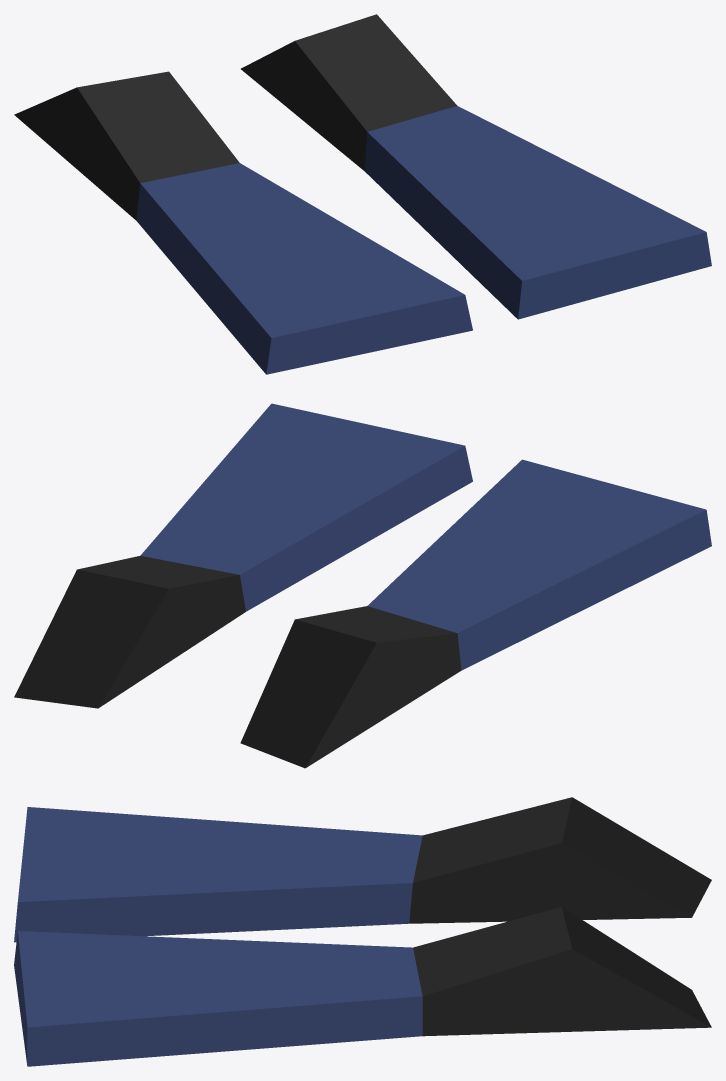
The model's file is beach_scuba-fins.fbx.
3 views of the same model, one above another, from view 1: azimuth 30°, elevation 25°; view 2: azimuth 150°, elevation 25°; view 3: azimuth 270°, elevation 25° (orthographic). The views are drawn at different scales.
Visible parts, largest first — view 1: beach_scuba_fins; view 2: beach_scuba_fins; view 3: beach_scuba_fins.
Part boxes in pixels (x1,y1,x2,y2): beach_scuba_fins: (14,14,711,374); beach_scuba_fins: (14,403,711,768); beach_scuba_fins: (14,797,711,1066).
Size of the model in its own units: 153 by 25.5 by 200.
